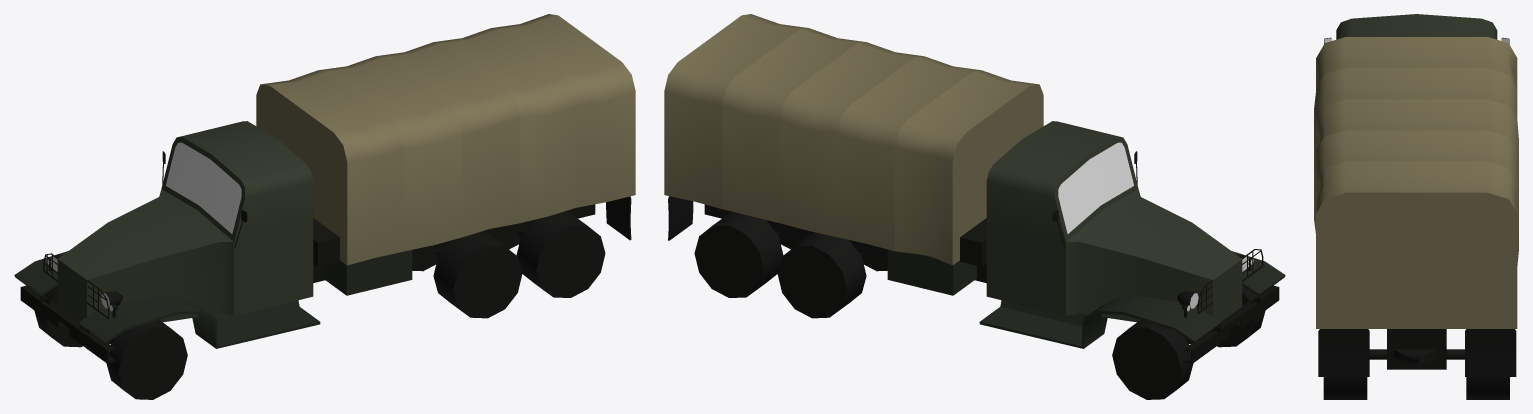
File: truck-siluete.fbx
The picture shows the model from 3 angles, left to right: view 1: azimuth 30°, elevation 25°; view 2: azimuth 150°, elevation 25°; view 3: azimuth 270°, elevation 25°; orthographic projection. The views are drawn at different scales.
Visible parts, largest first — view 1: Mashinka_3; view 2: Mashinka_3; view 3: Mashinka_3.
Part boxes in pixels (bbox=[...]): Mashinka_3: bbox=[14, 14, 635, 399]; Mashinka_3: bbox=[664, 14, 1285, 399]; Mashinka_3: bbox=[1314, 14, 1518, 399].
Size of the model in its own units: 850 by 320 by 251.
